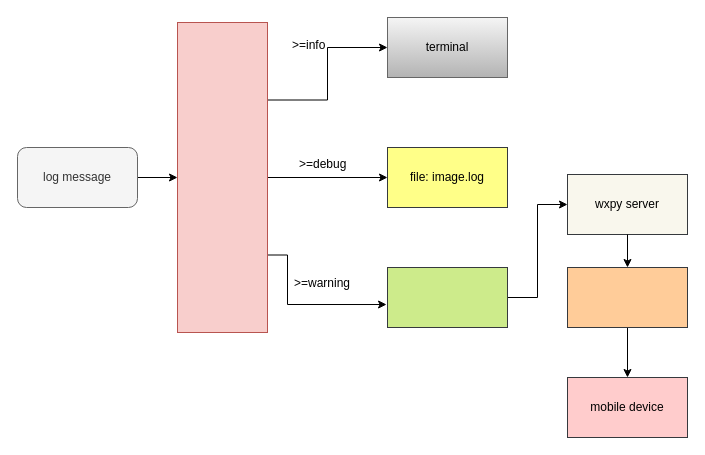
Some shapes in this 705 by 455 pixel diagram are drawn without their labels. The shapes that lost their labels are listed below. From the top down, each one's box as (x1, y1, x2, y2) in pixels, then its label:
(176, 22, 268, 332): filter
(386, 266, 508, 328): wx_handler
(566, 266, 688, 328): wx_server
